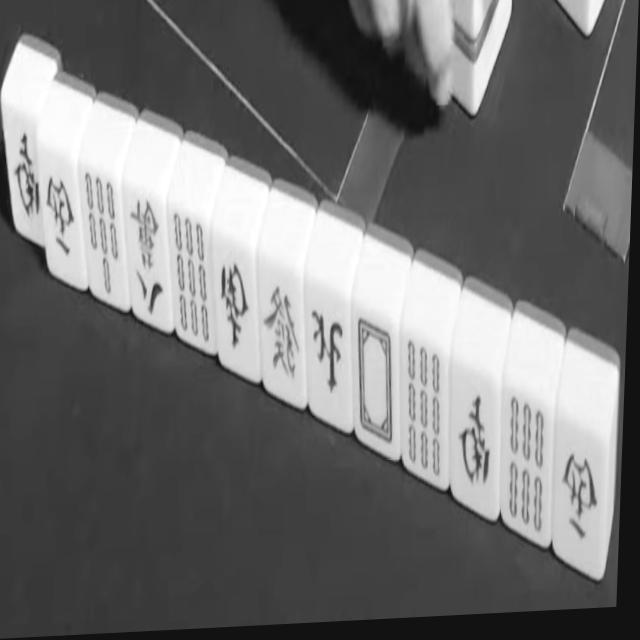bai: (347, 305, 406, 453)
fa: (260, 269, 306, 394)
m8: (127, 188, 171, 325)
north: (299, 287, 354, 401)
s6: (501, 387, 558, 548)
s7: (77, 164, 131, 306)
s9: (391, 333, 452, 489), (159, 206, 219, 355)
south: (443, 369, 506, 503), (206, 246, 263, 368), (9, 116, 46, 226)
west: (542, 430, 613, 553), (45, 154, 82, 273)
